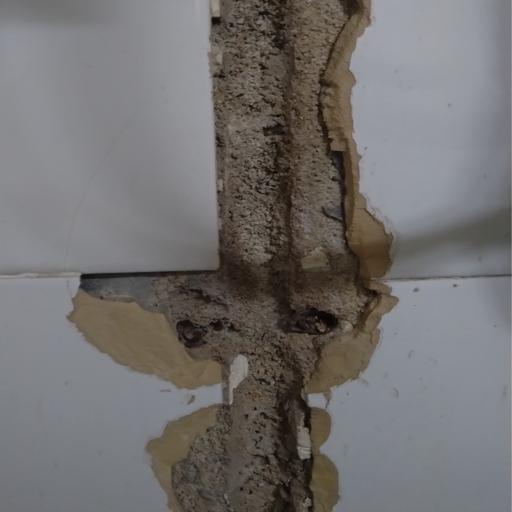spalling: (54, 0, 405, 512)
